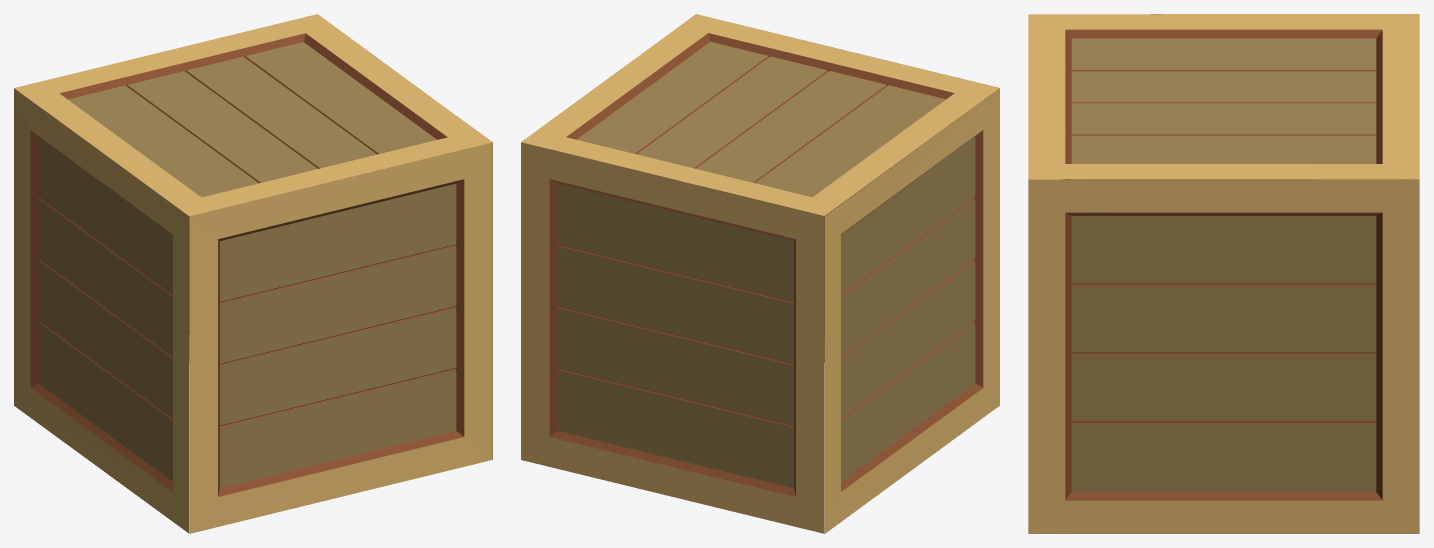
Rendered from Wooden-Box.FBX.
3 renders of one model, left to right at view 1: azimuth 30°, elevation 25°; view 2: azimuth 150°, elevation 25°; view 3: azimuth 270°, elevation 25°, orthographic. The views are drawn at different scales.
Parts seen in each view (by area): view 1: WoodenBox; view 2: WoodenBox; view 3: WoodenBox.
Boxes of the visible parts, <box> form: WoodenBox: <box>14,14,492,533</box>; WoodenBox: <box>521,14,999,533</box>; WoodenBox: <box>1028,14,1419,533</box>.
Size of the model in its own units: 30.04 by 30.02 by 30.04.
